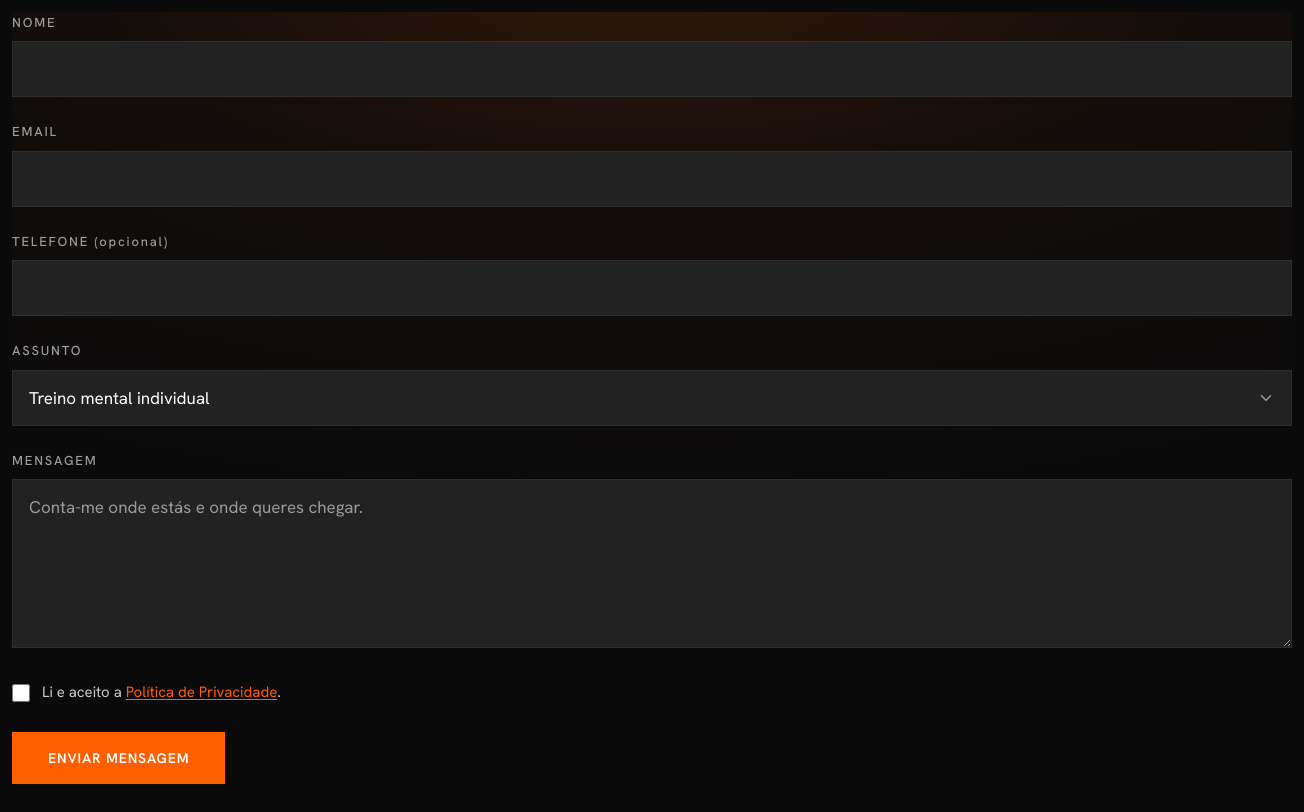
ContactForm › shows a distinct validation error for an incomplete email
Type "Ana Silva" into the field labelled "Nome".
click(652, 69); type("Ana Silva")  # box left=12, top=41, right=1292, bottom=97
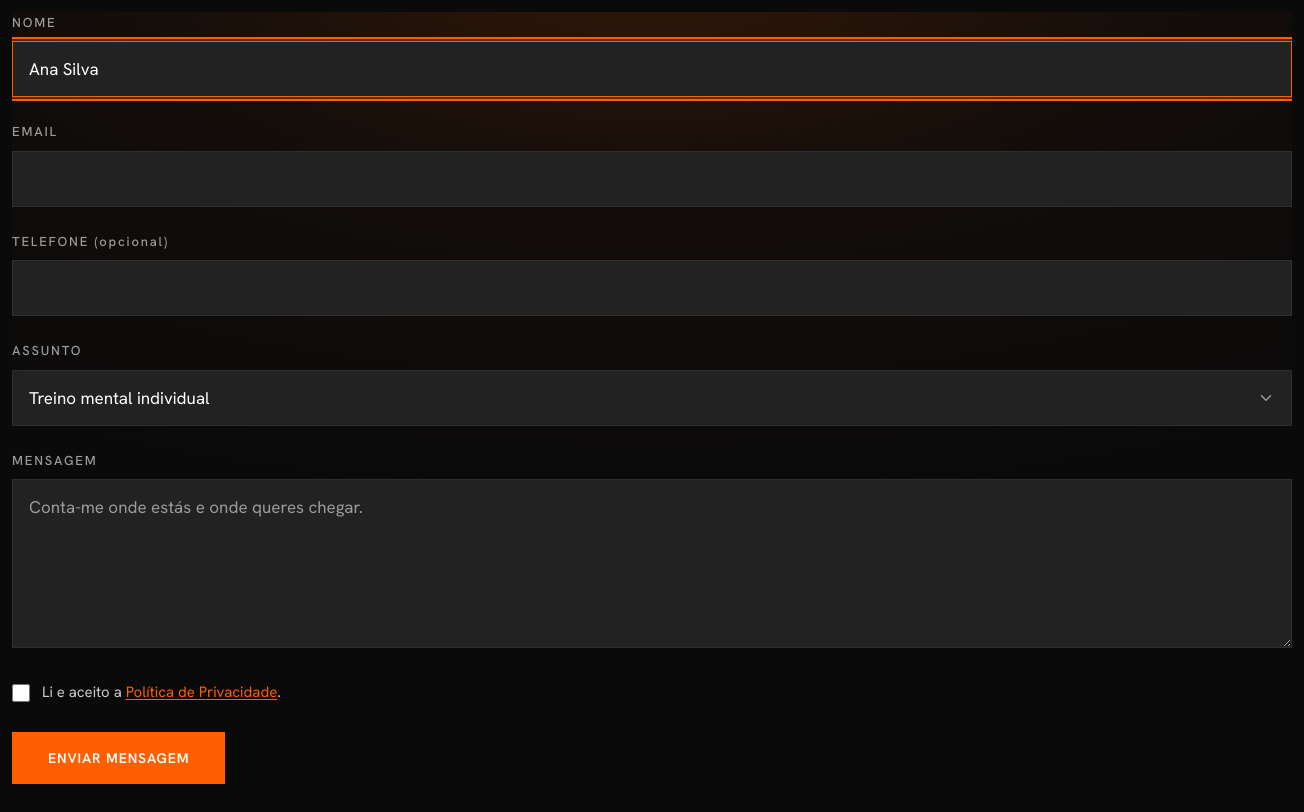
Type "ana.example.com" into the field labelled "Email".
click(652, 179); type("ana.example.com")  # box left=12, top=151, right=1292, bottom=207
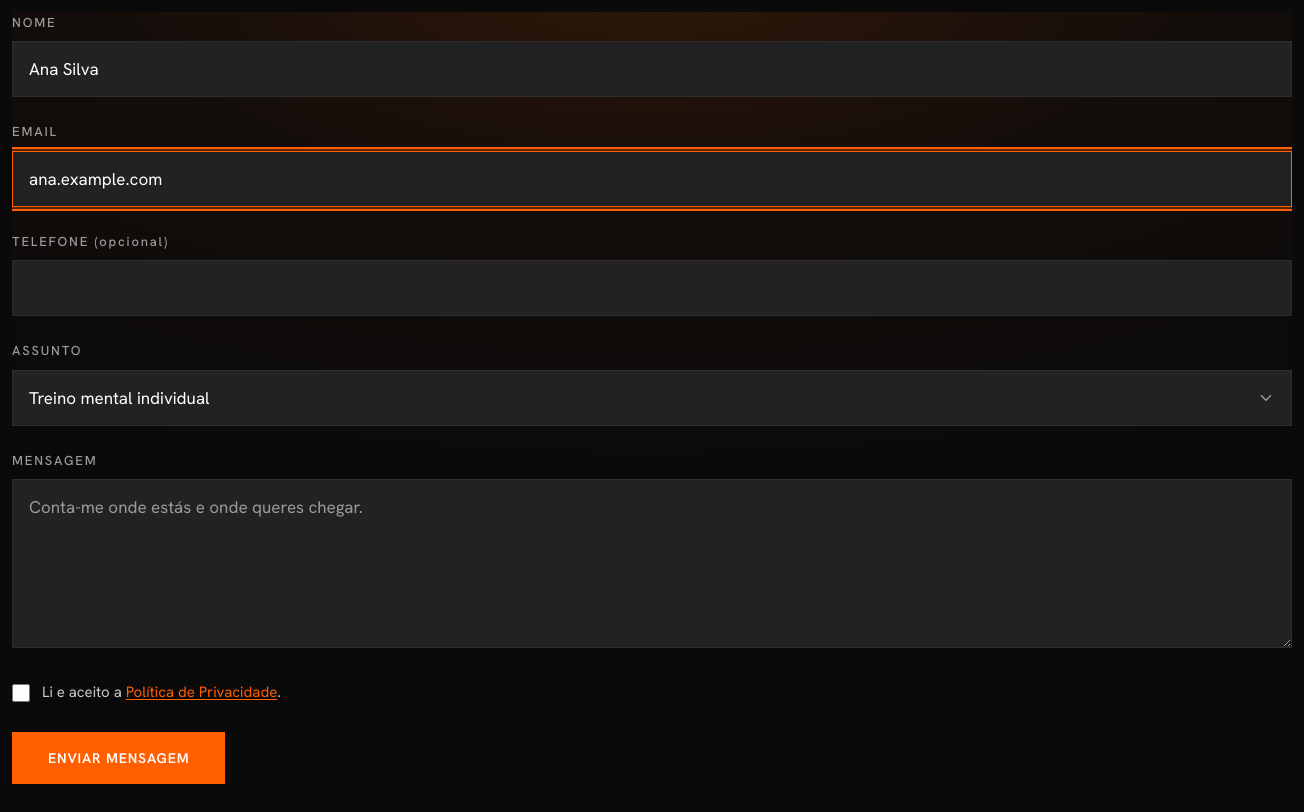
Type "Quero saber mais." into the text box labelled "Mensagem".
click(652, 564); type("Quero saber mais.")  # box left=12, top=479, right=1292, bottom=648
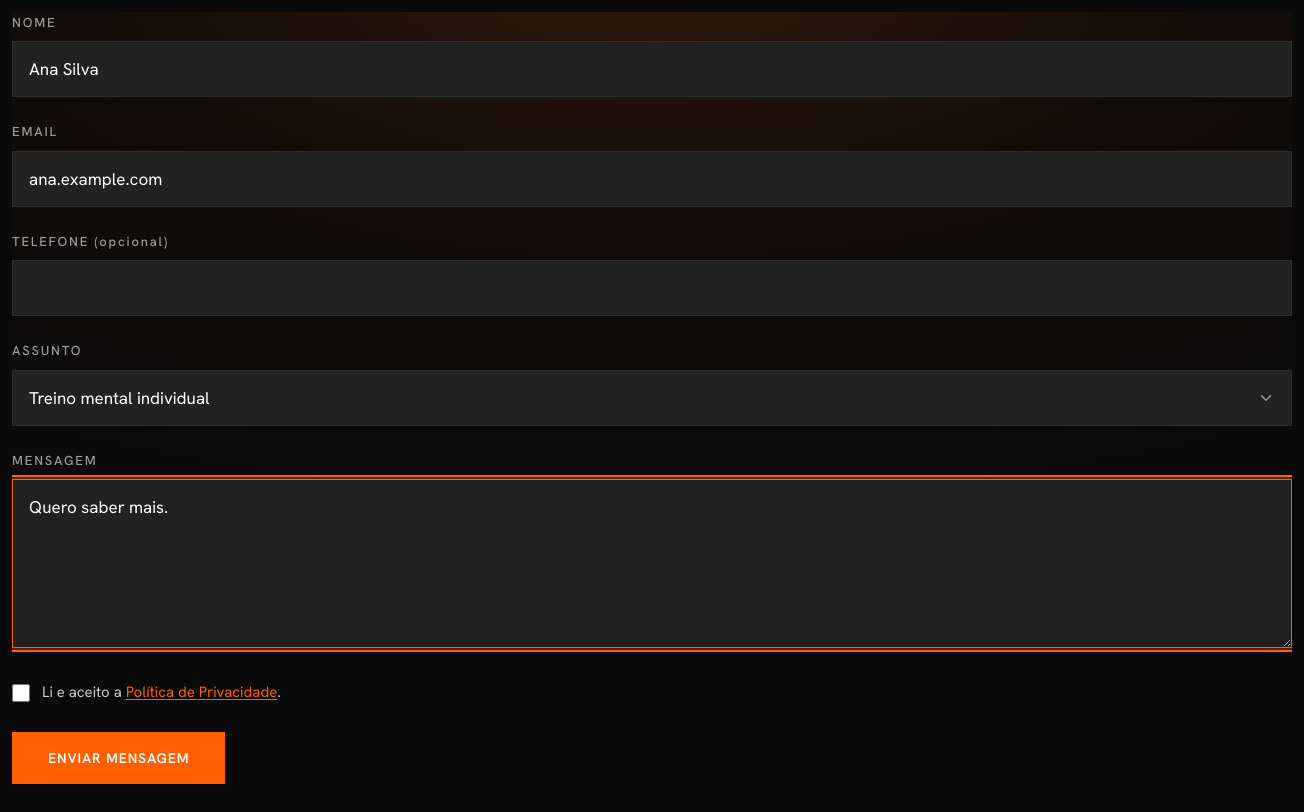
Click the checkbox.
click(21, 693)  # box left=12, top=684, right=30, bottom=702
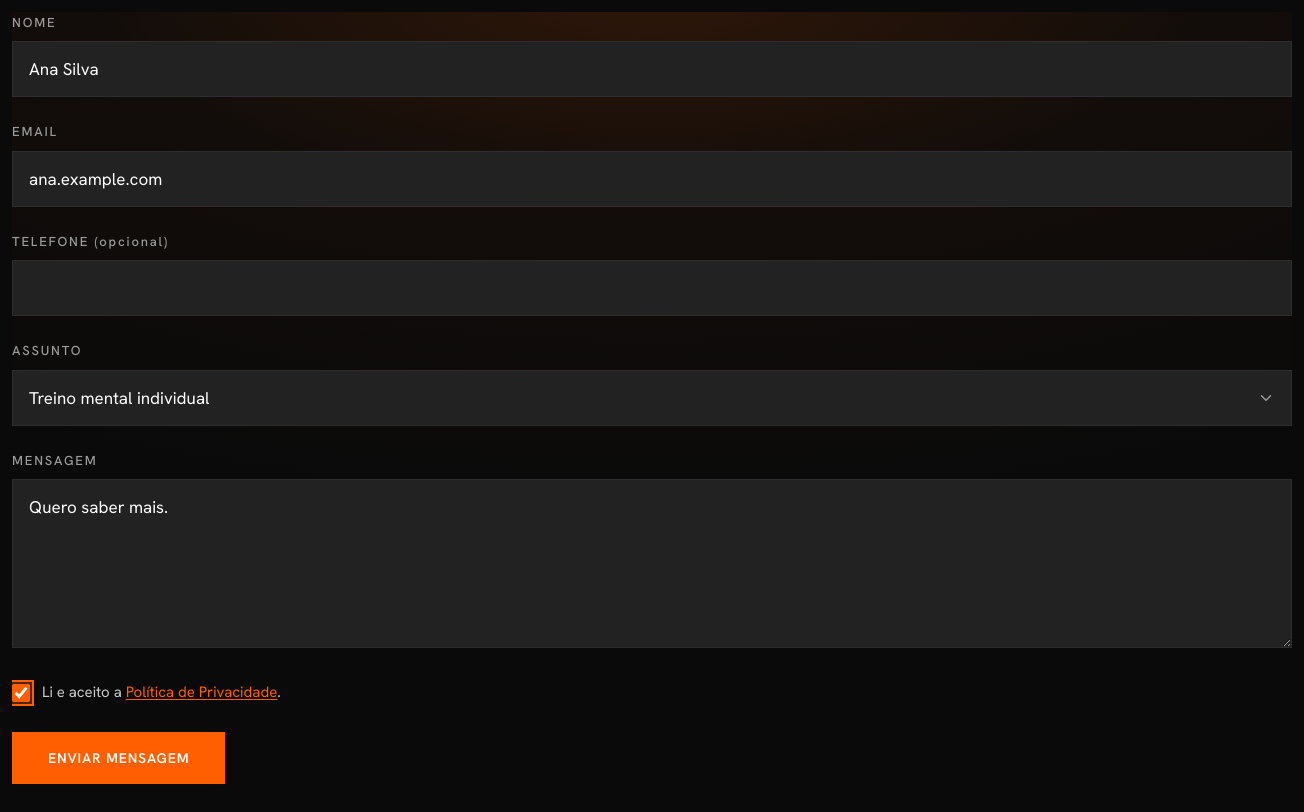
Click the button "Enviar mensagem".
click(119, 758)  # box left=12, top=732, right=225, bottom=784
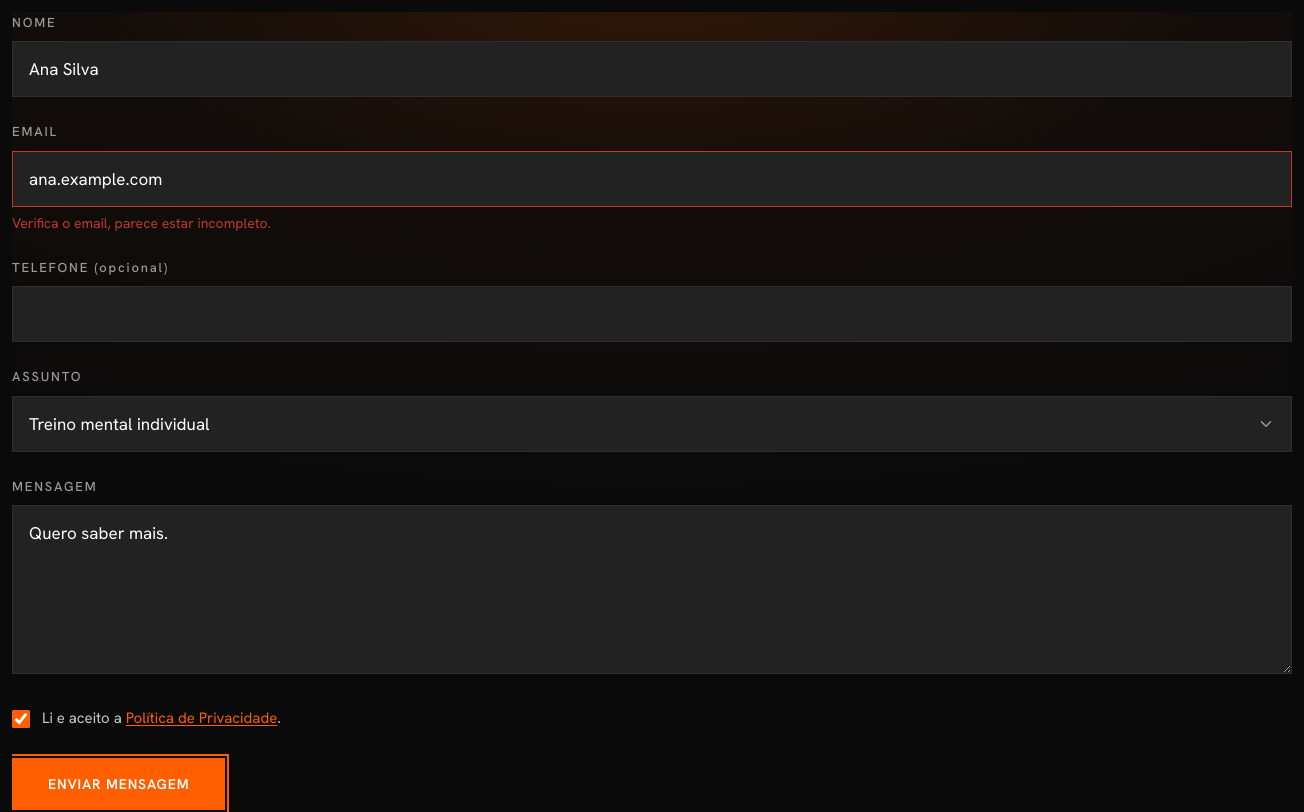
Check: the text "Verifica o email, parece estar incompleto." is shown, box left=12, top=214, right=271, bottom=232
